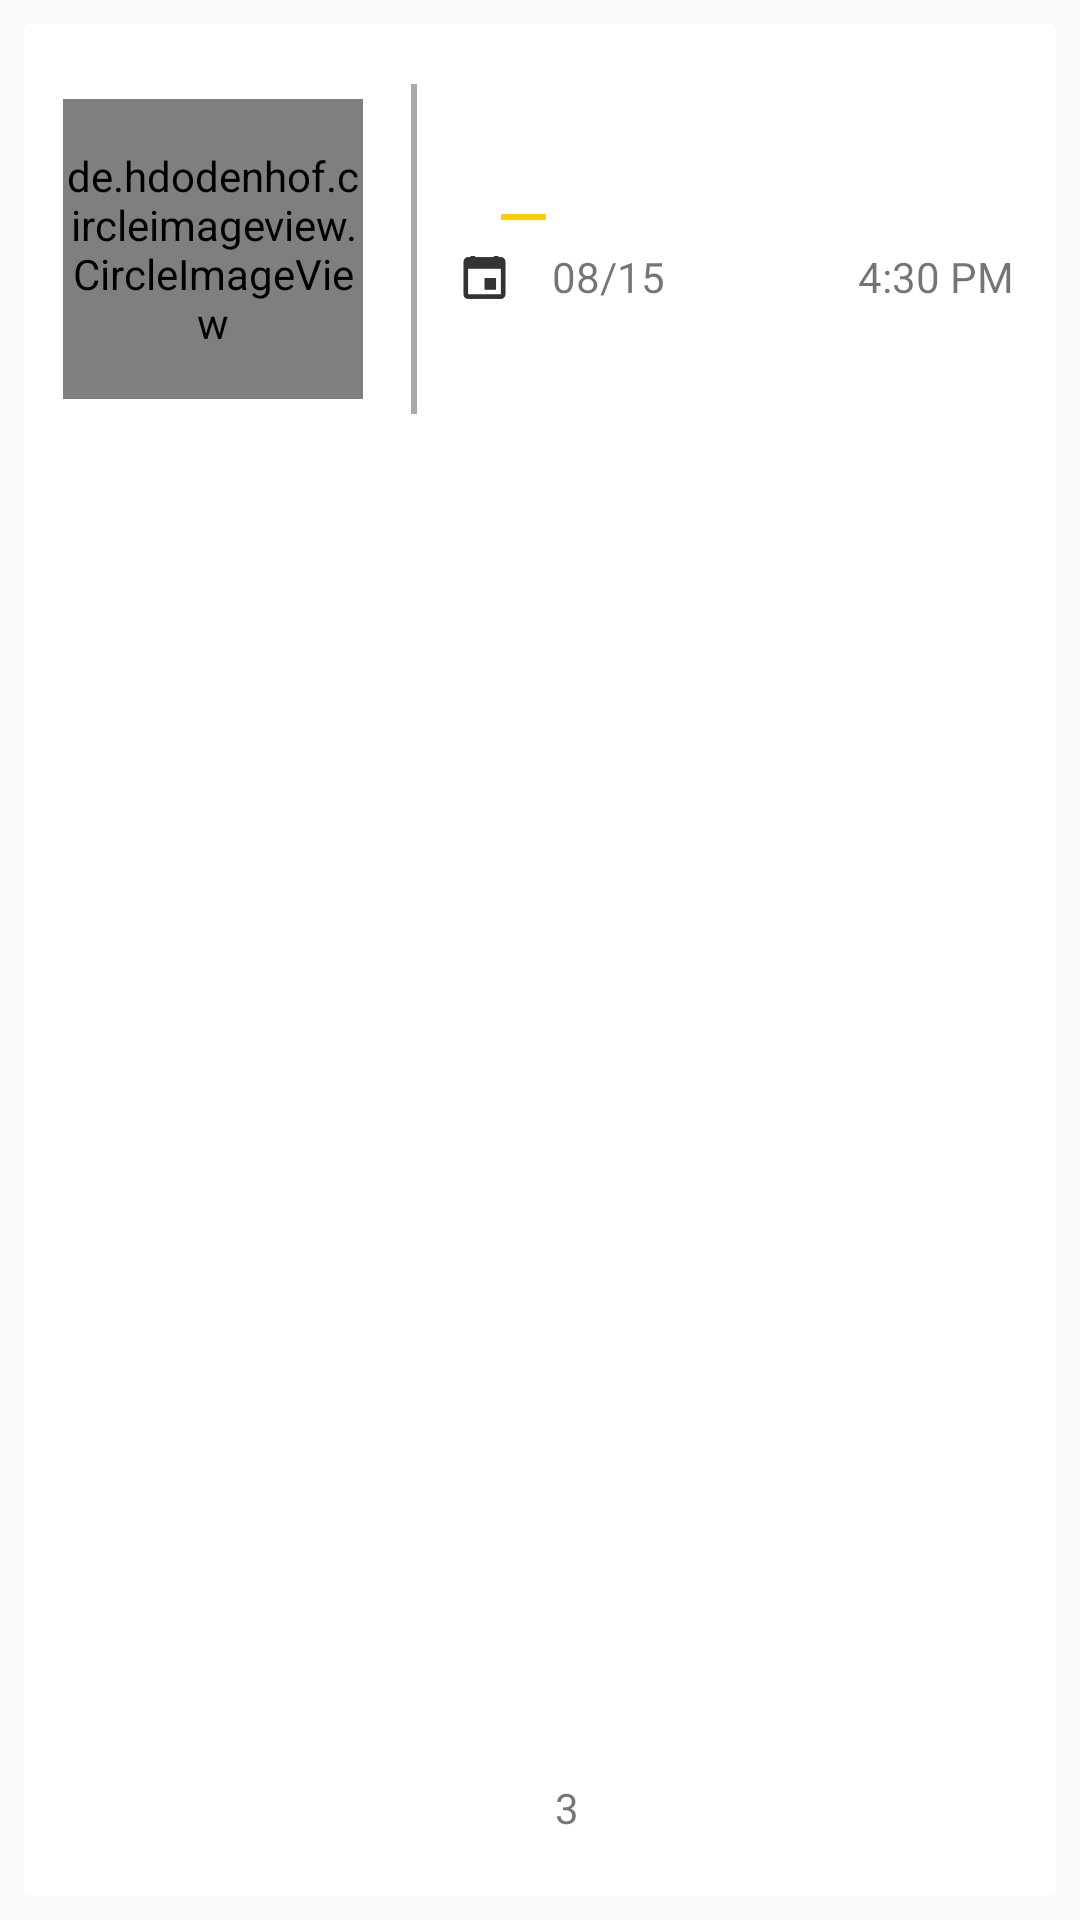

Locate icon controls on the screen. Image size 1080x1920, boxes as (x1, y1, x2, y2).
calendar: (463, 256, 506, 299)
